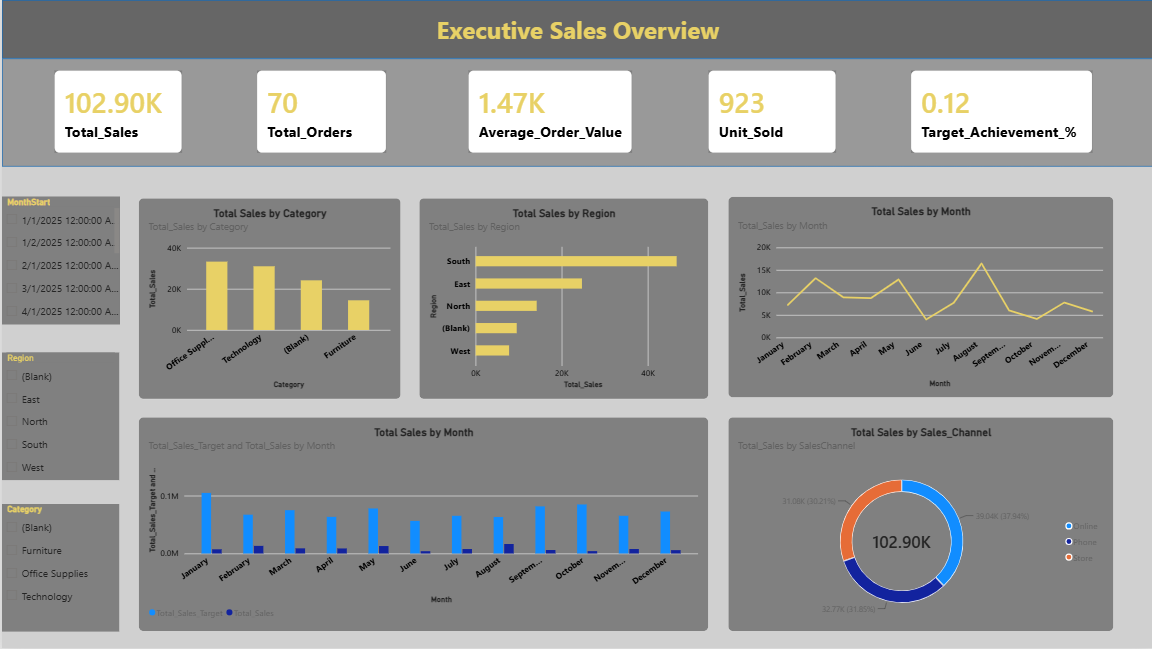

The dashboard page shown, as its layout file describes it:
{"tool":"powerbi","page":{"name":"Executive_Sales_Overview","canvas":[1920,1080],"ordinal":0},"visuals":[{"type":"shape","box":[0,0,1920,97.5],"z":0},{"type":"shape","box":[0,97.5,1920,180],"z":1000},{"type":"cardVisual","fields":{"Data":["fact_Orders.Total_Sales"]},"box":[87.5,117.5,212.5,137.5],"z":2000},{"type":"cardVisual","fields":{"Data":["fact_Orders.Total_Orders"]},"box":[425,117.5,215,137.5],"z":3000},{"type":"cardVisual","fields":{"Data":["fact_Orders.Average_Order_Value"]},"box":[777.5,117.5,272.5,137.5],"z":4000},{"type":"cardVisual","fields":{"Data":["fact_Orders.Unit_Sold"]},"box":[1177.5,117.5,212.5,137.5],"z":5000},{"type":"cardVisual","fields":{"Data":["fact_Targets.Target_Achievement_%"]},"box":[1515,117.5,302.5,137.5],"z":6000},{"type":"lineChart","title":"Total Sales by Month","fields":{"Category":["dim_Month.MonthStart.Variation.Date Hierarchy.Month"],"Y":["fact_Orders.Total_Sales"]},"box":[1210,327.5,642.5,335],"z":7000},{"type":"barChart","title":"Total Sales by Region","fields":{"Category":["dim_Region.Region"],"Y":["fact_Orders.Total_Sales"]},"box":[695,330,482.5,335],"z":8000},{"type":"columnChart","title":"Total Sales by Category","fields":{"Category":["dim_Products.Category"],"Y":["fact_Orders.Total_Sales"]},"box":[227.5,330,437.5,335],"z":9000},{"type":"clusteredColumnChart","title":"Total Sales by Month","fields":{"Category":["dim_Month.MonthStart.Variation.Date Hierarchy.Month"],"Y":["fact_Targets.Total_Sales_Target","fact_Orders.Total_Sales"]},"box":[227.5,695,950,357.5],"z":10000},{"type":"donutChart","title":"Total Sales by Sales_Channel","fields":{"Category":["fact_Orders.SalesChannel"],"Y":["fact_Orders.Total_Sales"]},"box":[1210,695,642.5,357.5],"z":11000},{"type":"slicer","title":"Total Sales by Category","fields":{"Values":["dim_Month.MonthStart"]},"box":[0,327.5,195,212.5],"z":12000},{"type":"slicer","title":"Total Sales by Category","fields":{"Values":["dim_Region.Region"]},"box":[0,587.5,195,212.5],"z":13000},{"type":"slicer","title":"Total Sales by Category","fields":{"Values":["dim_Products.Category"]},"box":[0,840,195,212.5],"z":14000}]}

Visuals, with their boxes in screenshot pixels (x1, y1, x2, y2), scaled from the page's 1920x1080 canvas onto the 1152x649 screenshot:
shape: region(0, 0, 1151, 59)
shape: region(0, 59, 1151, 167)
cardVisual - fact_Orders.Total_Sales: region(52, 71, 180, 153)
cardVisual - fact_Orders.Total_Orders: region(255, 71, 384, 153)
cardVisual - fact_Orders.Average_Order_Value: region(466, 71, 630, 153)
cardVisual - fact_Orders.Unit_Sold: region(706, 71, 834, 153)
cardVisual - fact_Targets.Target_Achievement_%: region(909, 71, 1090, 153)
"Total Sales by Month" lineChart: region(726, 197, 1112, 398)
"Total Sales by Region" barChart: region(417, 198, 706, 400)
"Total Sales by Category" columnChart: region(136, 198, 399, 400)
"Total Sales by Month" clusteredColumnChart: region(136, 418, 706, 632)
"Total Sales by Sales_Channel" donutChart: region(726, 418, 1112, 632)
"Total Sales by Category" slicer: region(0, 197, 117, 324)
"Total Sales by Category" slicer: region(0, 353, 117, 481)
"Total Sales by Category" slicer: region(0, 505, 117, 632)
